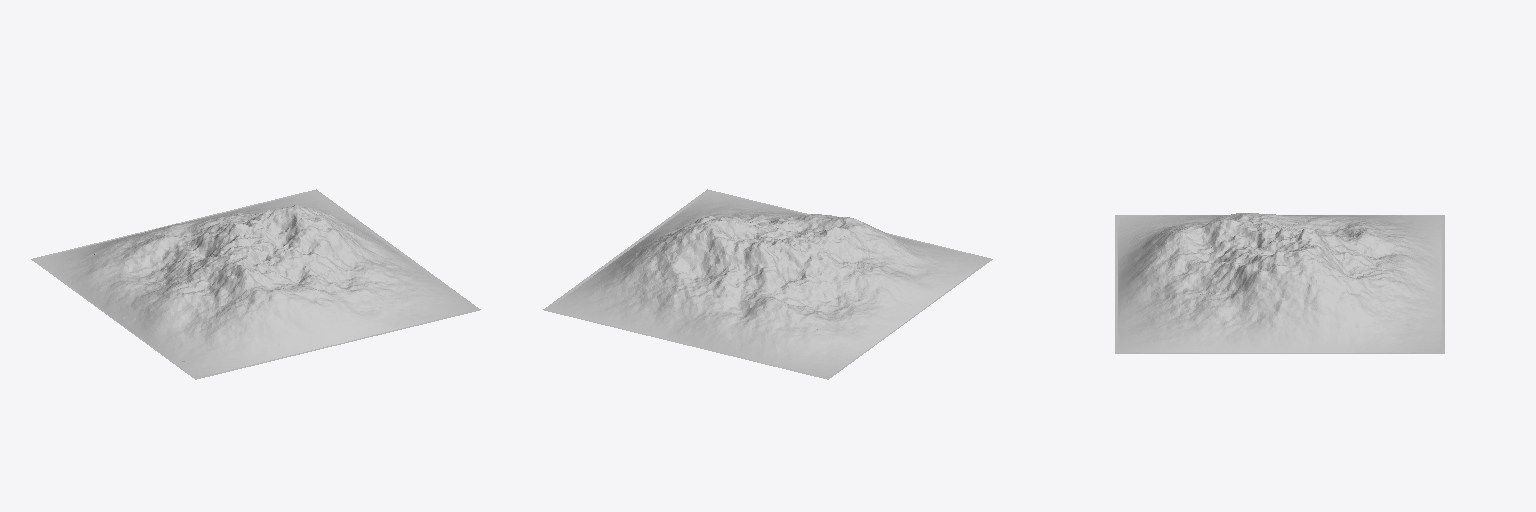
Rendered from MunteDoi16k.obj.
The picture shows the model from 3 angles: view 1: azimuth 30°, elevation 25°; view 2: azimuth 150°, elevation 25°; view 3: azimuth 270°, elevation 25°; orthographic projection.
Visible parts, largest first — view 1: MuntDoi; view 2: MuntDoi; view 3: MuntDoi.
Part boxes in pixels (x1,y1,x2,y2): MuntDoi: (31, 189, 480, 379); MuntDoi: (543, 189, 992, 379); MuntDoi: (1115, 213, 1444, 353).
Bounding box in the file's own units: 200 × 38.27 × 200.